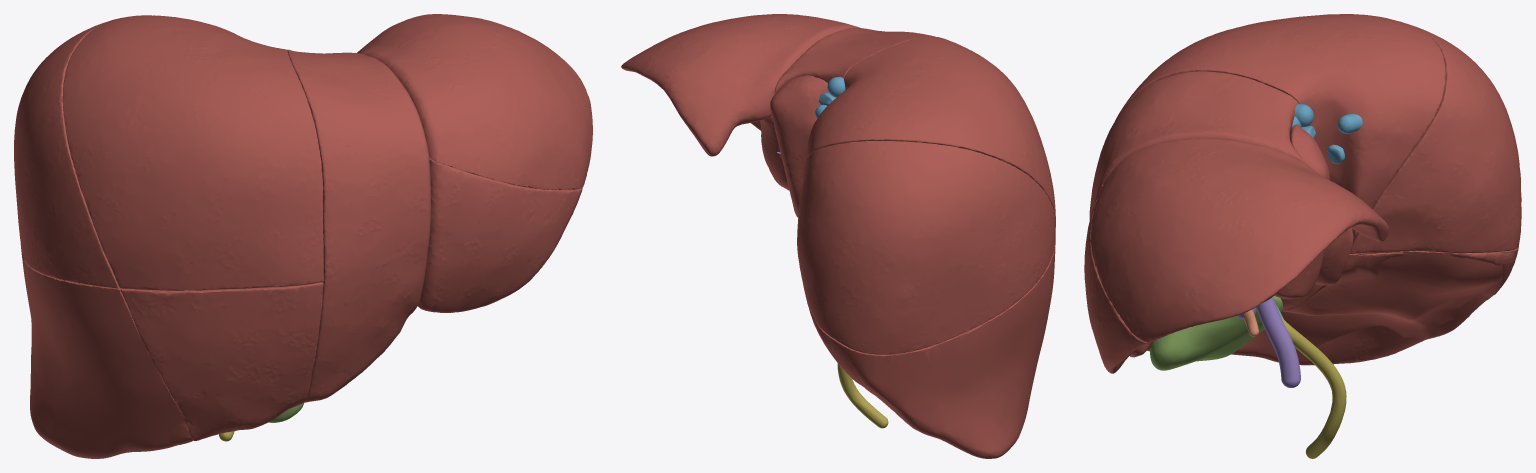
File: liver.glb
3 views of the same model, side by side, from view 1: azimuth 30°, elevation 25°; view 2: azimuth 150°, elevation 25°; view 3: azimuth 270°, elevation 25° (orthographic). The views are drawn at different scales.
Visible parts, largest first — view 1: liver; view 2: liver, biliary, hepatic-veins; view 3: liver, gallbladder, biliary, portal, hepatic-veins.
Boxes of the visible parts, <box> form: liver: <box>14,14,592,458</box>; liver: <box>621,14,1055,458</box>; biliary: <box>837,363,888,428</box>; hepatic-veins: <box>815,76,845,118</box>; liver: <box>1084,14,1521,373</box>; gallbladder: <box>1150,296,1282,370</box>; biliary: <box>1256,308,1346,458</box>; portal: <box>1236,297,1300,387</box>; hepatic-veins: <box>1292,104,1362,164</box>.
Size of the model in its own units: 4.19 by 3.27 by 3.18.
